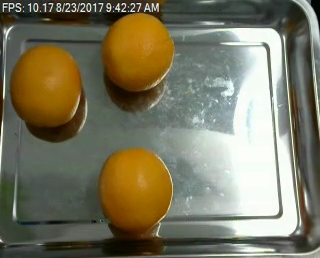Orange: (98, 148, 174, 230), (11, 44, 82, 126), (101, 13, 175, 90)
